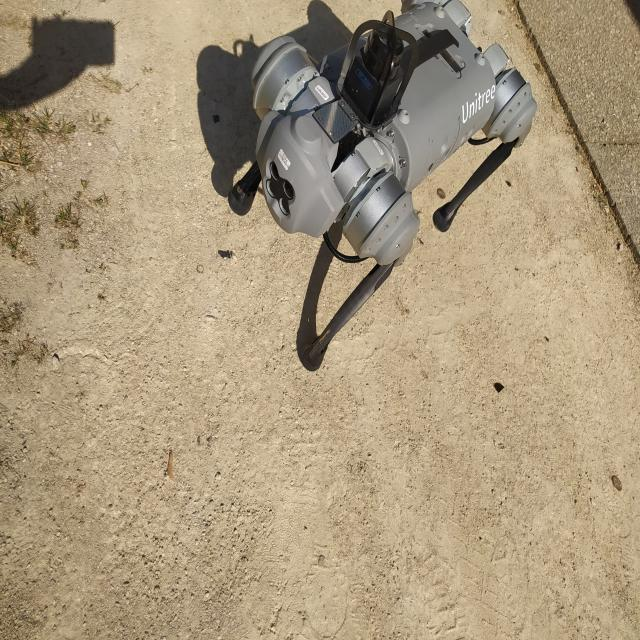unitree-go1-robot: (229, 3, 541, 368)
